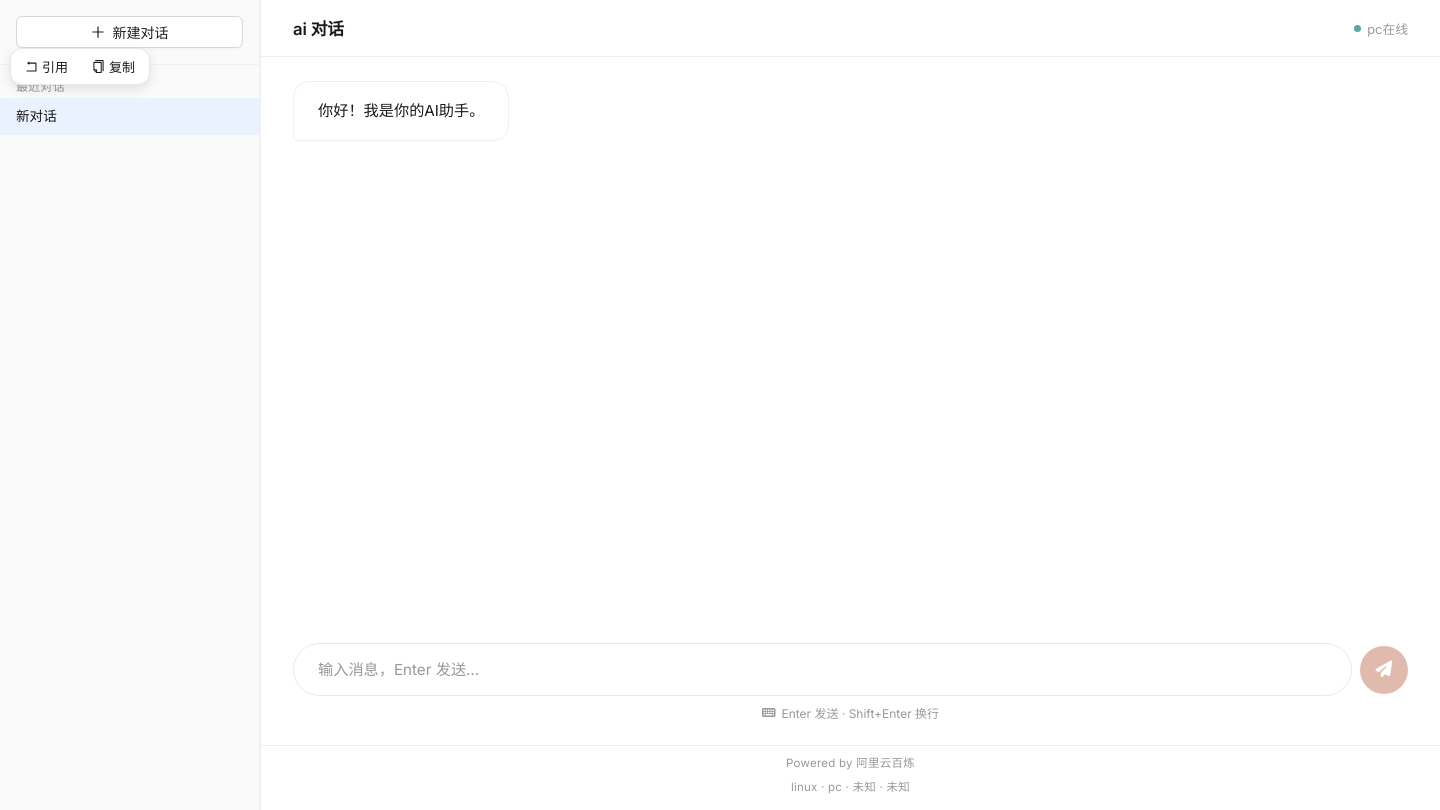
Scenario: App 选区引用与复制 › 发送失败时保留引用便于重试
Click the button "引用" at (46, 66), box [15,53,78,80]
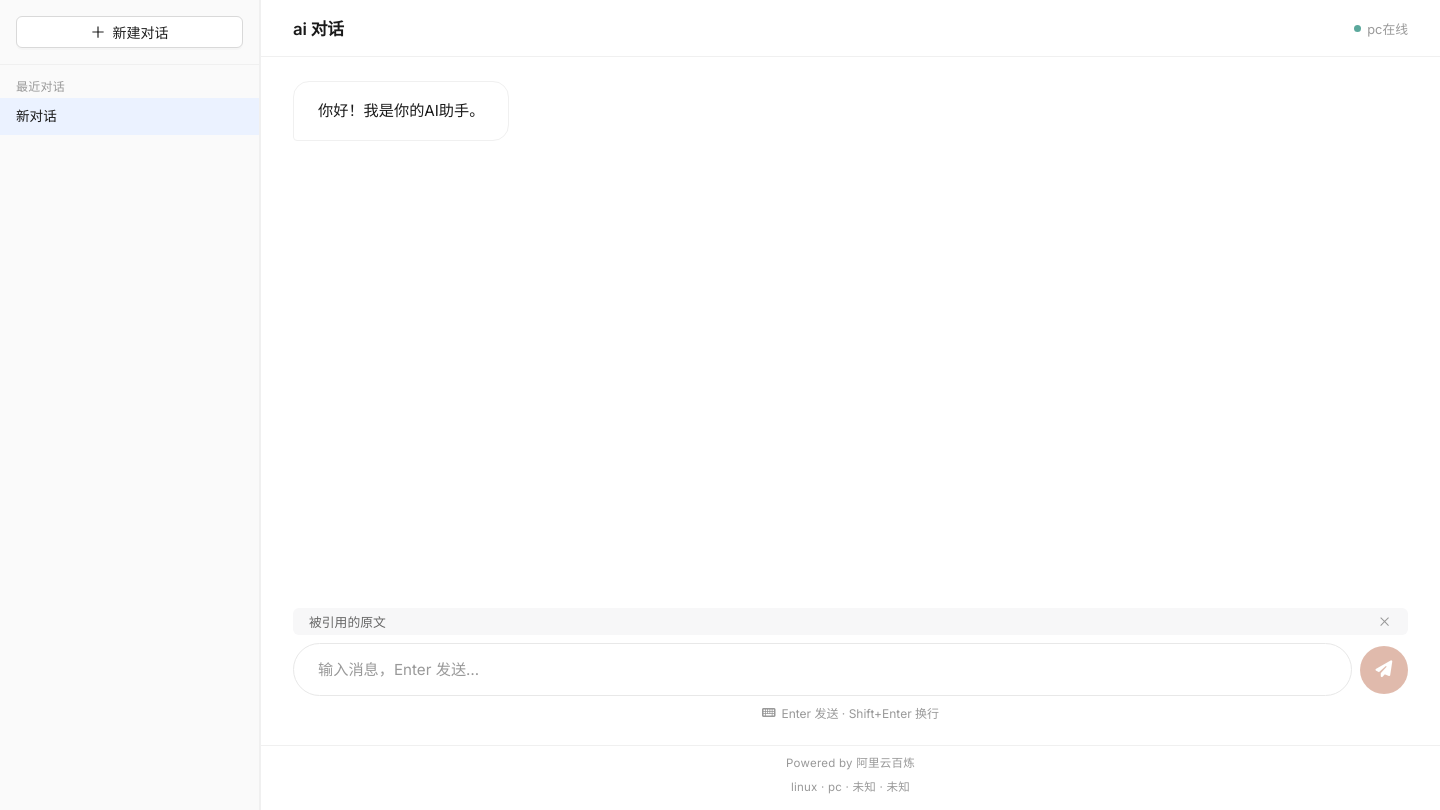
Type "帮我解释" into the field named "聊天输入框" at (822, 670), box [293,643,1352,696]
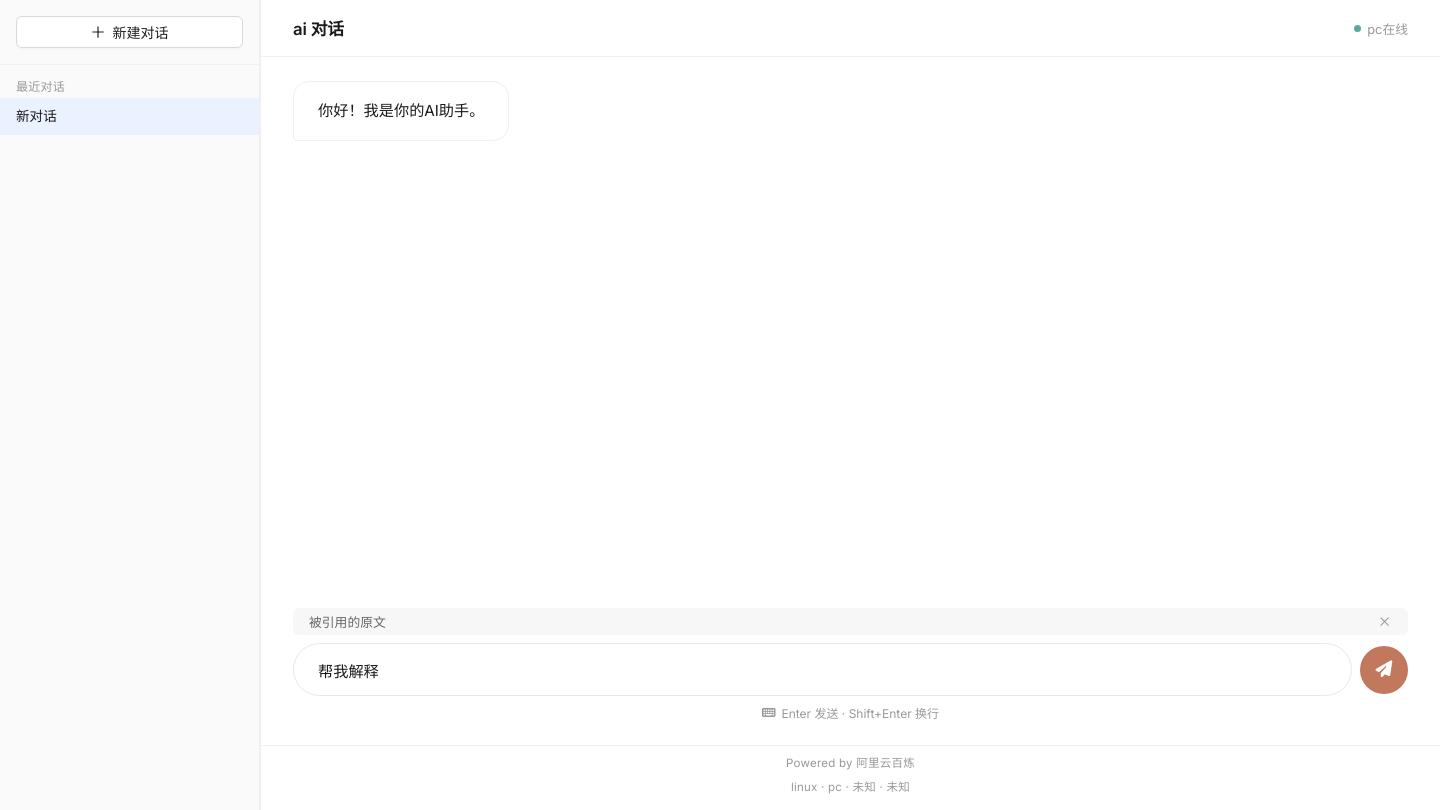
Click the button named "发送消息" at (1384, 670), box [1360,646,1408,694]
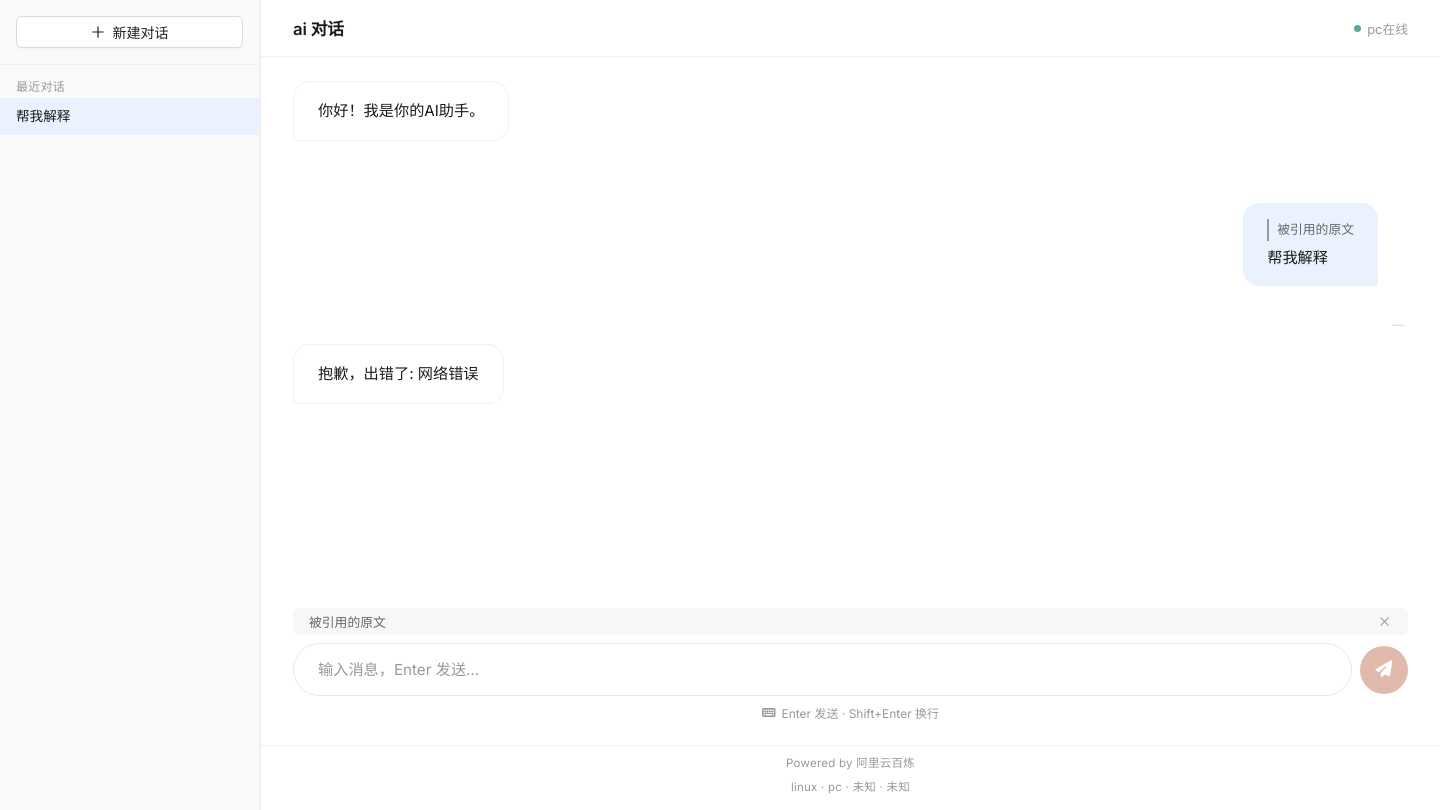
Check: the element showing "被引用的原文" is shown, box [293,608,1408,635]
Check: the text "抱歉，出错了: 网络错误" is shown, box [318,361,478,387]
